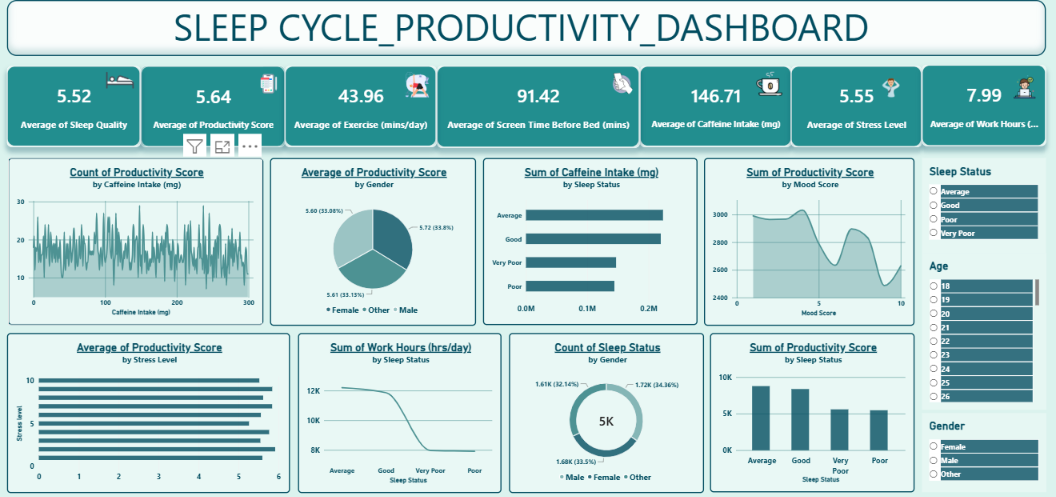

The page's visual inventory and layout, read from the dashboard file:
{"tool":"powerbi","page":{"name":"Page 1","canvas":[2300,1080],"ordinal":0},"visuals":[{"type":"pieChart","fields":{"Y":["Avg(sleep_cycle_Productivity_Cleaned.Productivity Score)"],"Category":["sleep_cycle_Productivity_Cleaned.Gender"]},"box":[587,344.4,448.1,364.8],"z":0},{"type":"textbox","box":[15.2,0,2258.7,121.7],"z":1000},{"type":"cardVisual","title":"Average of Productivity Score","fields":{"Data":["Avg(sleep_cycle_Productivity_Cleaned.Productivity Score)"]},"box":[306.5,143.5,313,176.1],"z":2000},{"type":"cardVisual","fields":{"Data":["Avg(sleep_cycle_Productivity_Cleaned.Sleep Quality)"]},"box":[14.8,144.4,290.7,175.9],"z":3000},{"type":"cardVisual","fields":{"Data":["Avg(sleep_cycle_Productivity_Cleaned.Caffeine Intake (mg))"]},"box":[1390.7,144.4,329.6,175.9],"z":4000},{"type":"cardVisual","fields":{"Data":["Avg(sleep_cycle_Productivity_Cleaned.Screen Time Before Bed (mins))"]},"box":[950,142.6,440.7,177.8],"z":5000},{"type":"cardVisual","fields":{"Data":["Avg(sleep_cycle_Productivity_Cleaned.Stress Level)"]},"box":[1719.6,143.5,284.8,176.1],"z":6000},{"type":"cardVisual","fields":{"Data":["Avg(sleep_cycle_Productivity_Cleaned.Exercise (mins/day))"]},"box":[620.4,144.4,329.6,175.9],"z":7000},{"type":"areaChart","fields":{"Category":["sleep_cycle_Productivity_Cleaned.Caffeine Intake (mg)"],"Y":["CountNonNull(sleep_cycle_Productivity_Cleaned.Productivity Score)"]},"box":[16.7,344.4,555.6,363],"z":8000},{"type":"barChart","fields":{"Category":["sleep_cycle_Productivity_Cleaned.Stress Level"],"Y":["Avg(sleep_cycle_Productivity_Cleaned.Productivity Score)"]},"box":[14.8,724.1,615,348],"z":9000},{"type":"barChart","fields":{"Category":["sleep_cycle_Productivity_Cleaned.Sleep Status"],"Y":["Sum(sleep_cycle_Productivity_Cleaned.Caffeine Intake (mg))"]},"box":[1050,344.4,466.7,363],"z":10000},{"type":"lineChart","fields":{"Y":["Sum(sleep_cycle_Productivity_Cleaned.Work Hours (hrs/day))"],"Category":["sleep_cycle_Productivity_Cleaned.Sleep Status"]},"box":[648.1,724.1,442,348],"z":11000},{"type":"donutChart","fields":{"Category":["sleep_cycle_Productivity_Cleaned.Gender"],"Y":["CountNonNull(sleep_cycle_Productivity_Cleaned.Sleep Status)"]},"box":[1105.6,724.1,424,348],"z":12000},{"type":"clusteredColumnChart","fields":{"Category":["sleep_cycle_Productivity_Cleaned.Sleep Status"],"Y":["Sum(sleep_cycle_Productivity_Cleaned.Productivity Score)"]},"box":[1542.6,724.1,444.4,346.3],"z":13000},{"type":"stackedAreaChart","fields":{"Y":["Sum(sleep_cycle_Productivity_Cleaned.Productivity Score)"],"Category":["sleep_cycle_Productivity_Cleaned.Mood Score"]},"box":[1529.6,344.4,457.4,364.8],"z":14000},{"type":"image","box":[231.5,122.2,61.1,81.5],"z":15000},{"type":"image","box":[548.1,161.1,72.2,42.6],"z":16000},{"type":"image","box":[868.5,153.7,75.9,59.3],"z":17000},{"type":"image","box":[1331.5,157.4,46.3,50],"z":18000},{"type":"image","box":[1644.4,153.7,57.4,55.6],"z":19000},{"type":"image","box":[1909.3,166.7,55.6,46.3],"z":20000},{"type":"cardVisual","fields":{"Data":["Avg(sleep_cycle_Productivity_Cleaned.Work Hours (hrs/day))"]},"box":[2004.3,141.3,269.6,176.1],"z":21000},{"type":"image","box":[2202.2,163,50,52.2],"z":22000},{"type":"listSlicer","fields":{"Values":["sleep_cycle_Productivity_Cleaned.Age"]},"box":[2003.7,550,270.4,340.7],"z":23000},{"type":"listSlicer","fields":{"Values":["sleep_cycle_Productivity_Cleaned.Gender"]},"box":[2003.7,898.1,270.4,172.2],"z":24000},{"type":"listSlicer","fields":{"Values":["sleep_cycle_Productivity_Cleaned.Sleep Status"]},"box":[2004.3,343.5,269.6,206.5],"z":25000}]}

Visuals, with their boxes in screenshot pixels (x1, y1, x2, y2), scaled from the page's 2300x1080 canvas onto the 1056x497 screenshot:
pieChart - Avg(sleep_cycle_Productivity_Cleaned.Productivity Score) x sleep_cycle_Productivity_Cleaned.Gender: bbox=[270, 158, 475, 326]
textbox: bbox=[7, 0, 1044, 56]
"Average of Productivity Score" cardVisual: bbox=[141, 66, 284, 147]
cardVisual - Avg(sleep_cycle_Productivity_Cleaned.Sleep Quality): bbox=[7, 66, 140, 147]
cardVisual - Avg(sleep_cycle_Productivity_Cleaned.Caffeine Intake (mg)): bbox=[639, 66, 790, 147]
cardVisual - Avg(sleep_cycle_Productivity_Cleaned.Screen Time Before Bed (mins)): bbox=[436, 66, 639, 147]
cardVisual - Avg(sleep_cycle_Productivity_Cleaned.Stress Level): bbox=[790, 66, 920, 147]
cardVisual - Avg(sleep_cycle_Productivity_Cleaned.Exercise (mins/day)): bbox=[285, 66, 436, 147]
areaChart - sleep_cycle_Productivity_Cleaned.Caffeine Intake (mg) x CountNonNull(sleep_cycle_Productivity_Cleaned.Productivity Score): bbox=[8, 158, 263, 326]
barChart - sleep_cycle_Productivity_Cleaned.Stress Level x Avg(sleep_cycle_Productivity_Cleaned.Productivity Score): bbox=[7, 333, 289, 493]
barChart - sleep_cycle_Productivity_Cleaned.Sleep Status x Sum(sleep_cycle_Productivity_Cleaned.Caffeine Intake (mg)): bbox=[482, 158, 696, 326]
lineChart - Sum(sleep_cycle_Productivity_Cleaned.Work Hours (hrs/day)) x sleep_cycle_Productivity_Cleaned.Sleep Status: bbox=[298, 333, 500, 493]
donutChart - sleep_cycle_Productivity_Cleaned.Gender x CountNonNull(sleep_cycle_Productivity_Cleaned.Sleep Status): bbox=[508, 333, 702, 493]
clusteredColumnChart - sleep_cycle_Productivity_Cleaned.Sleep Status x Sum(sleep_cycle_Productivity_Cleaned.Productivity Score): bbox=[708, 333, 912, 493]
stackedAreaChart - Sum(sleep_cycle_Productivity_Cleaned.Productivity Score) x sleep_cycle_Productivity_Cleaned.Mood Score: bbox=[702, 158, 912, 326]
image: bbox=[106, 56, 134, 94]
image: bbox=[252, 74, 285, 94]
image: bbox=[399, 71, 434, 98]
image: bbox=[611, 72, 633, 95]
image: bbox=[755, 71, 781, 96]
image: bbox=[877, 77, 902, 98]
cardVisual - Avg(sleep_cycle_Productivity_Cleaned.Work Hours (hrs/day)): bbox=[920, 65, 1044, 146]
image: bbox=[1011, 75, 1034, 99]
listSlicer - sleep_cycle_Productivity_Cleaned.Age: bbox=[920, 253, 1044, 410]
listSlicer - sleep_cycle_Productivity_Cleaned.Gender: bbox=[920, 413, 1044, 493]
listSlicer - sleep_cycle_Productivity_Cleaned.Sleep Status: bbox=[920, 158, 1044, 253]
